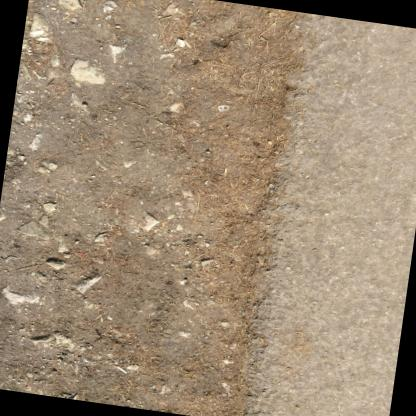Metal: (217, 104, 228, 110)
Paper: (114, 364, 126, 372)
